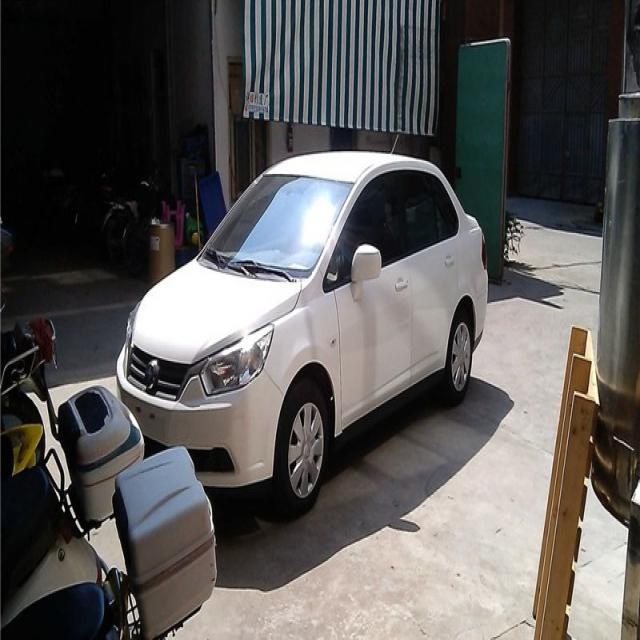door: (401, 162, 465, 378)
front_bumper: (150, 367, 284, 486)
front_glass: (202, 171, 356, 278)
front_left_side_door: (334, 162, 416, 432)
front_left_side_light: (200, 321, 274, 397)
front_left_side_mirror: (348, 243, 382, 289)
wheel: (276, 386, 328, 508), (445, 310, 473, 400)
